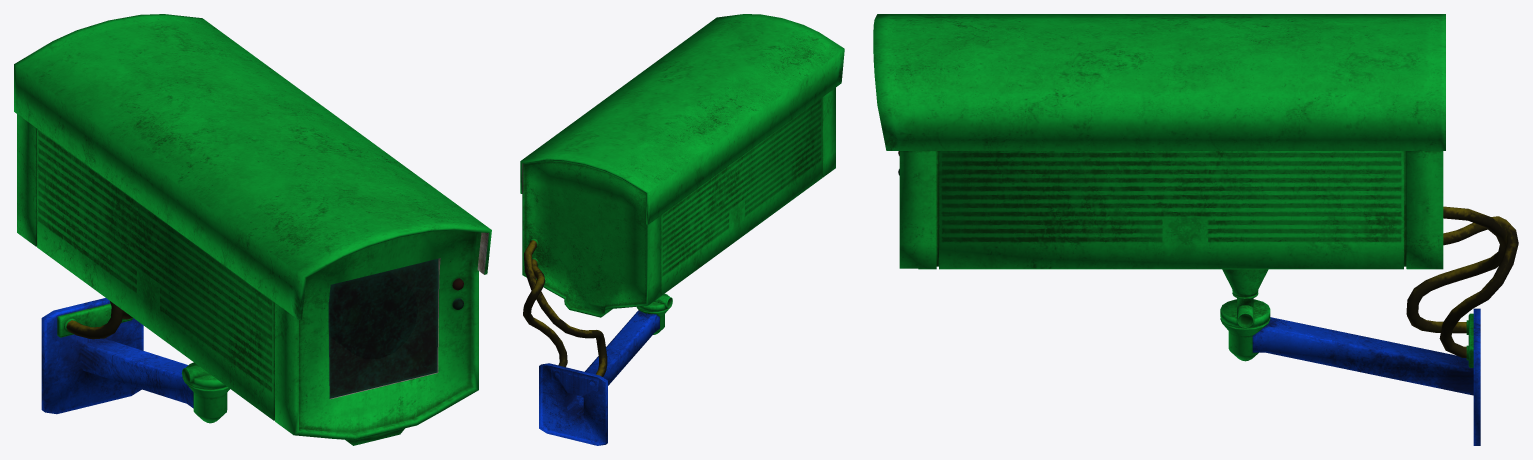
3 views of the same model, side by side, from view 1: azimuth 30°, elevation 25°; view 2: azimuth 150°, elevation 25°; view 3: azimuth 270°, elevation 25° (orthographic). The views are drawn at different scales.
Visible parts, largest first — view 1: CCTV_Camera_low (×2); view 2: CCTV_Camera_low (×2); view 3: CCTV_Camera_low (×2).
Boxes of the visible parts, x1,y1,x2,y2 form: CCTV_Camera_low (×2): (14,14,491,445); CCTV_Camera_low (×2): (520,14,844,445); CCTV_Camera_low (×2): (873,14,1518,445).
Size of the model in its own units: 0.663 by 1.33 by 2.
Materials: 2 (2 with a texture image).
